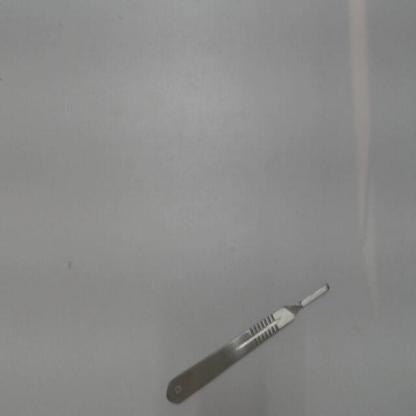No.4 BP Handle: (159, 267, 336, 408)
